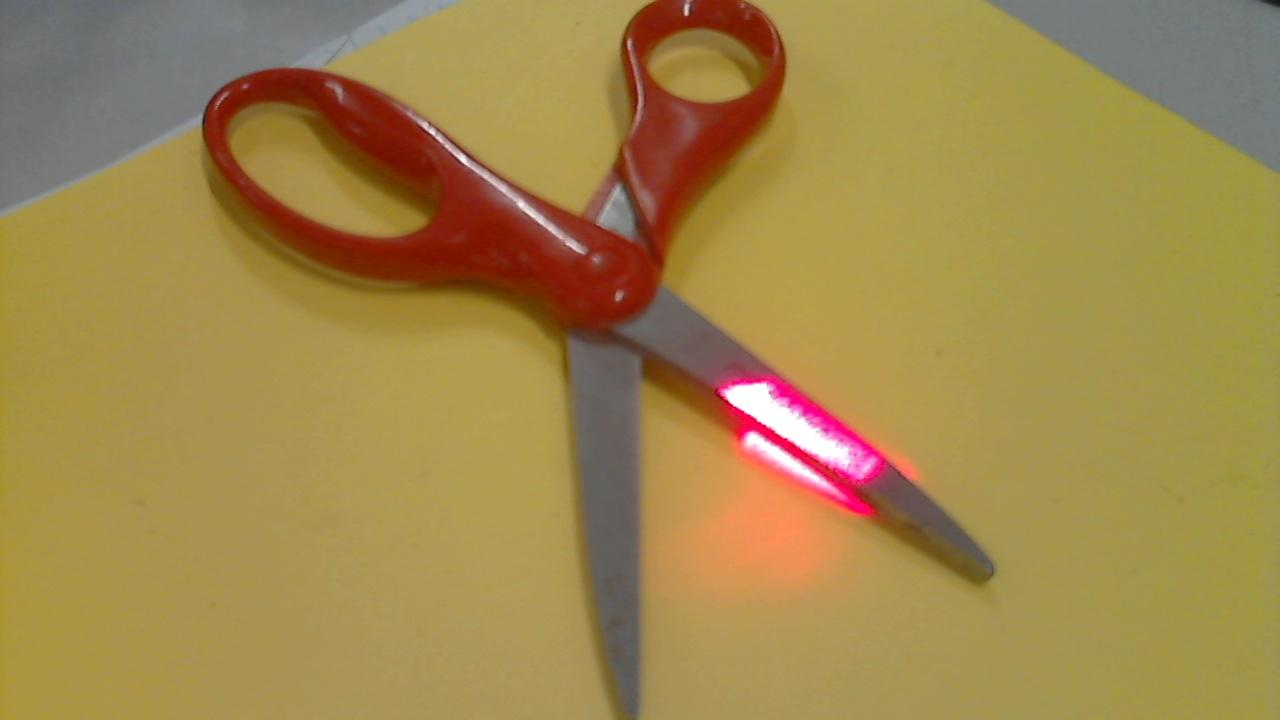Object scissors - Material plastic - Pdfname tYexGlkiIXWc: (716, 375, 889, 488)
